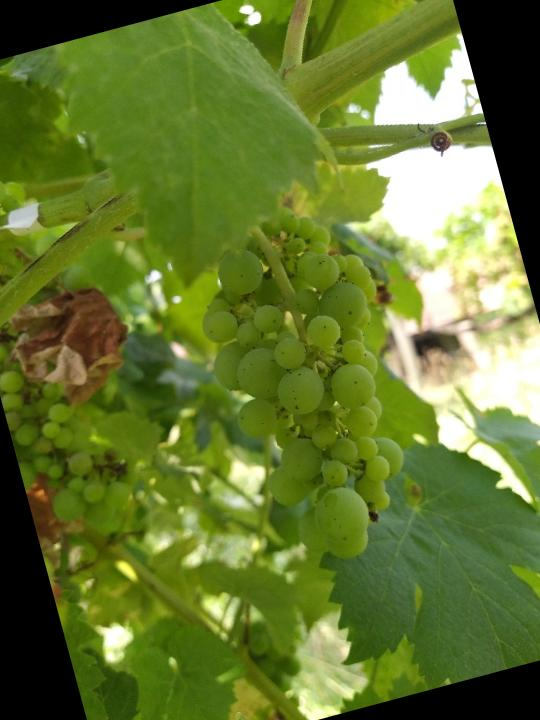grape: (176, 187, 446, 584)
